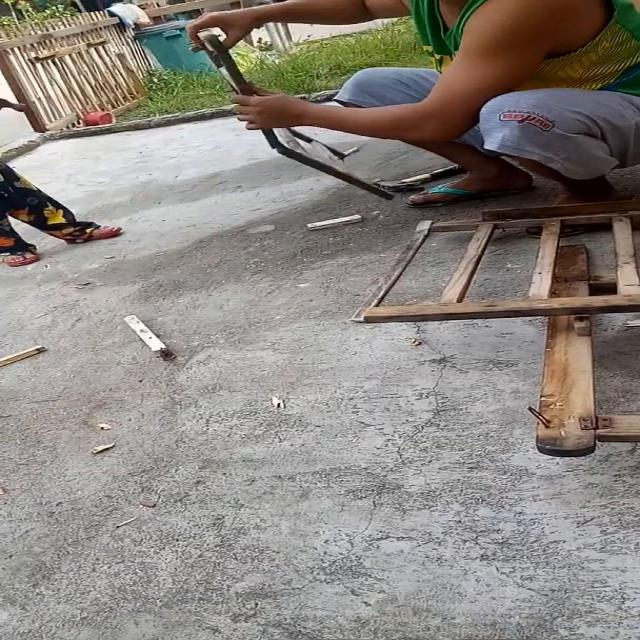hammer: (372, 163, 468, 194)
